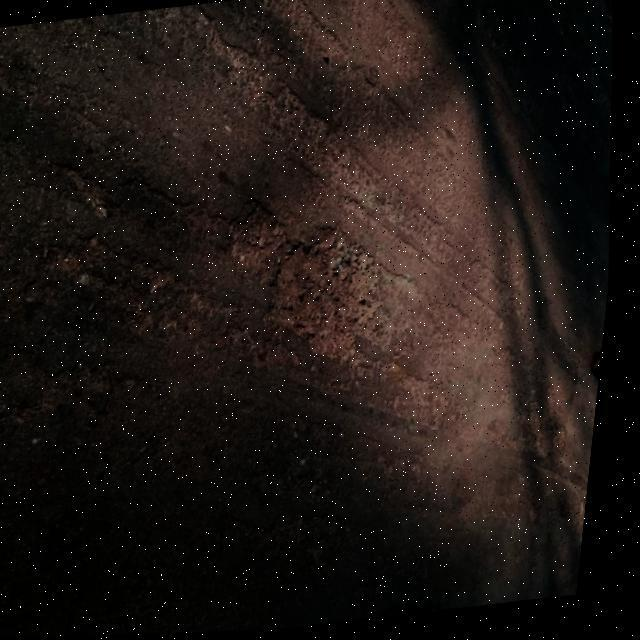pothole: (231, 199, 434, 388)
